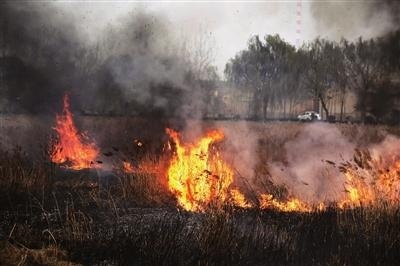fire: (143, 124, 250, 212), (48, 94, 102, 169), (338, 145, 400, 208)
